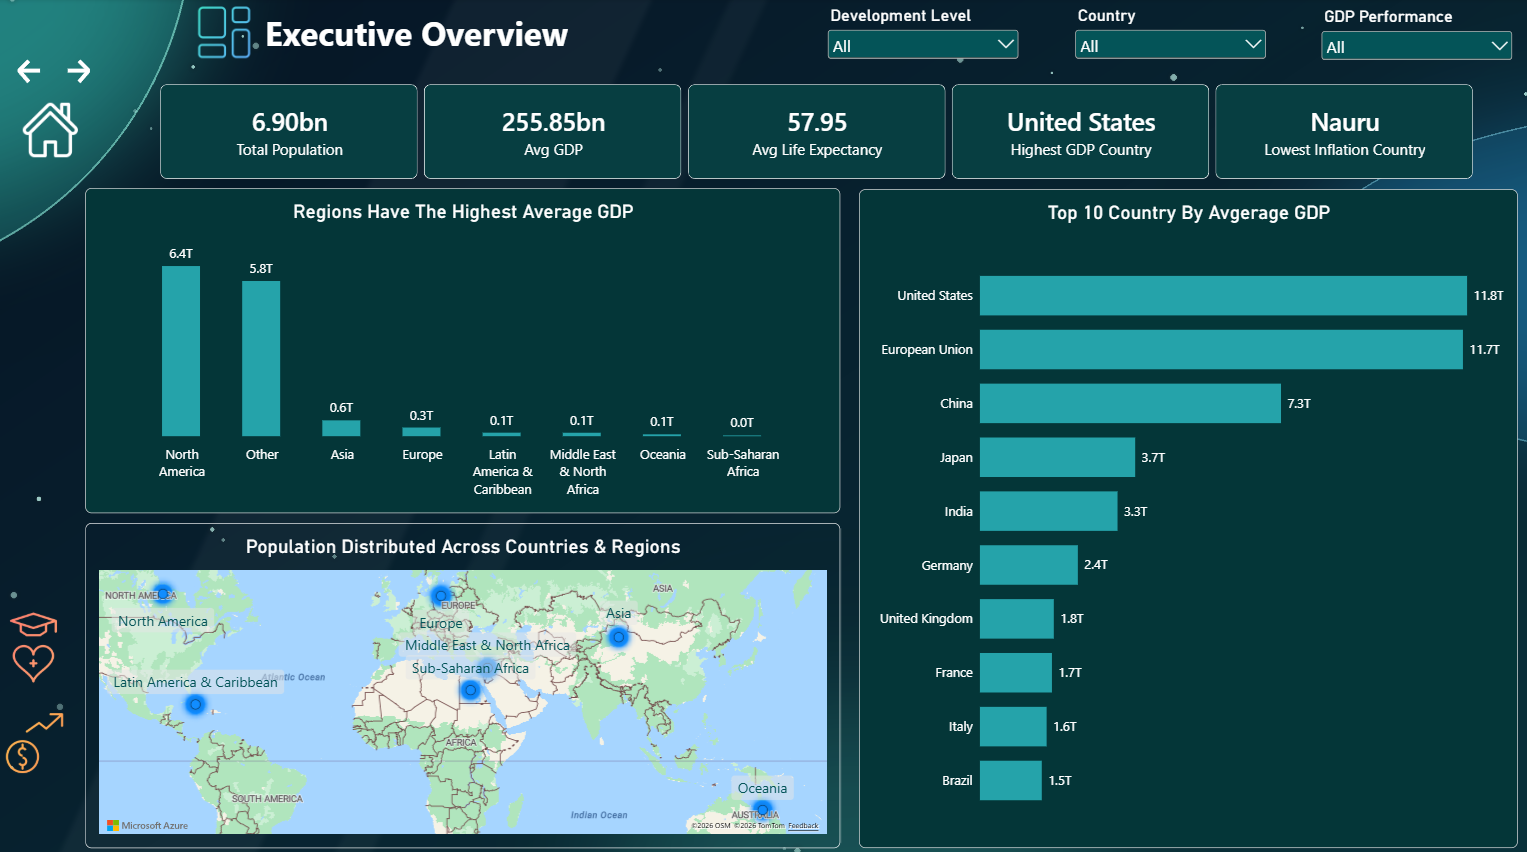

This screenshot's page, from the dashboard's own definition file:
{"tool":"powerbi","page":{"name":"Executive Overview","canvas":[1920,1080],"ordinal":1},"visuals":[{"type":"image","box":[0,0,1920.4,1079.7],"z":0},{"type":"image","box":[0,726.9,98.4,166.8],"z":3000},{"type":"image","box":[8.6,874.5,85.5,109],"z":4000},{"type":"shape","box":[299.3,0,455.4,85.5],"z":5000},{"type":"image","box":[250.2,0,74.8,85.5],"z":6000},{"type":"slicer","fields":{"Values":["Dim_Country.Development Level"]},"box":[1035.2,9.5,247.7,76.7],"z":7000},{"type":"slicer","fields":{"Values":["Dim_Country.Country"]},"box":[1343,8.6,247.7,76.7],"z":8000},{"type":"slicer","fields":{"Values":["Dim_Country.GDP Performance"]},"box":[1650.9,10.4,247.7,76.7],"z":9000},{"type":"cardVisual","fields":{"Data":["-measures.Total Population","-measures.Avg GDP","-measures.Avg Life Expectancy","-measures.Highest GDP Country","-measures.Lowest Inflation Country"]},"box":[207.4,106.9,1637.2,118.9],"z":10000},{"type":"image","box":[36.2,111.6,68.4,104.5],"z":11000},{"type":"clusteredColumnChart","title":"Regions Have The Highest Average GDP","fields":{"Category":["Dim_Country.Region"],"Y":["-measures.Avg GDP"]},"box":[113.8,237,941.6,405.3],"z":12000},{"type":"clusteredBarChart","title":"Top 10 Country By Avgerage GDP","fields":{"Category":["Dim_Country.Country"],"Y":["-measures.Avg GDP"]},"box":[1078.8,238.5,821.5,821.5],"z":13000},{"type":"azureMap","title":"Population Distributed Across Countries & Regions","fields":{"Category":["Dim_Country.Region","Dim_Country.Country"],"Y":["-measures.Avg GDP"]},"box":[113.8,654.7,941.6,405.3],"z":14000},{"type":"actionButton","box":[10.9,72,66.6,39.6],"z":15001},{"type":"actionButton","box":[73.6,71.9,63,39.6],"z":15002}]}

Visuals, with their boxes in screenshot pixels (x1, y1, x2, y2), scaled from the page's 1920x1080 canvas onto the 1527x852 screenshot:
image: <box>0,0,1526,851</box>
image: <box>0,573,78,705</box>
image: <box>7,690,75,776</box>
shape: <box>238,0,600,67</box>
image: <box>199,0,258,67</box>
slicer - Dim_Country.Development Level: <box>823,7,1020,68</box>
slicer - Dim_Country.Country: <box>1068,7,1265,67</box>
slicer - Dim_Country.GDP Performance: <box>1313,8,1510,69</box>
cardVisual - -measures.Total Population x -measures.Avg GDP: <box>165,84,1467,178</box>
image: <box>29,88,83,170</box>
"Regions Have The Highest Average GDP" clusteredColumnChart: <box>91,187,839,507</box>
"Top 10 Country By Avgerage GDP" clusteredBarChart: <box>858,188,1511,836</box>
"Population Distributed Across Countries & Regions" azureMap: <box>91,516,839,836</box>
actionButton: <box>9,57,62,88</box>
actionButton: <box>59,57,109,88</box>
